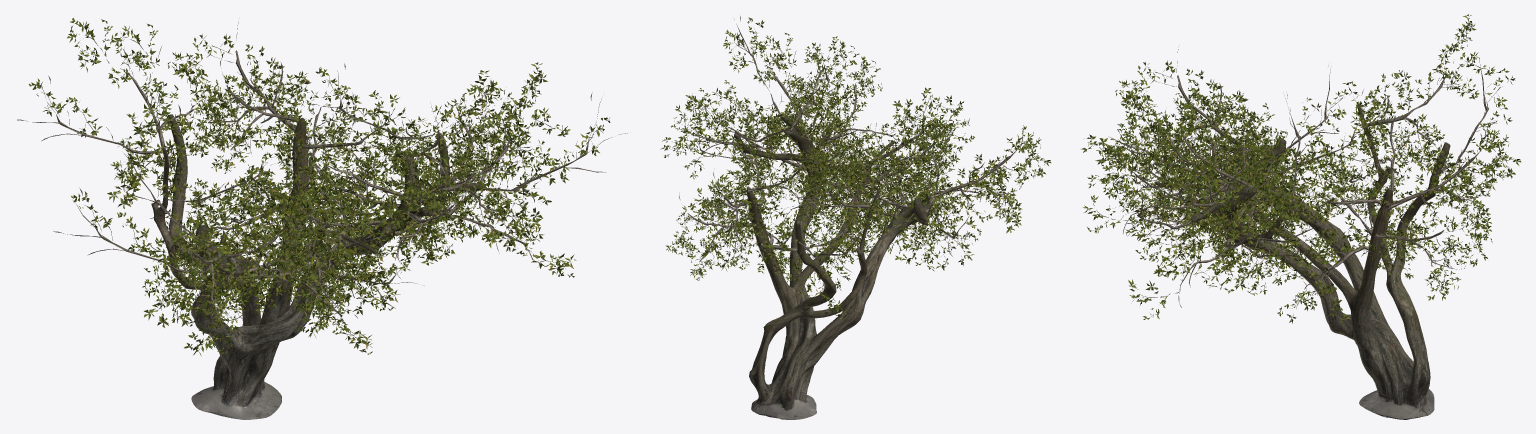
The model's file is island-tree.glb.
3 renders of one model, left to right at view 1: azimuth 30°, elevation 25°; view 2: azimuth 150°, elevation 25°; view 3: azimuth 270°, elevation 25°, orthographic. The views are drawn at different scales.
Parts seen in each view (by area): view 1: island_tree_02_LOD0.002, island_tree_02_LOD0, island_tree_02_LOD0.001; view 2: island_tree_02_LOD0.002, island_tree_02_LOD0.001, island_tree_02_LOD0; view 3: island_tree_02_LOD0.002, island_tree_02_LOD0.001, island_tree_02_LOD0.
Boxes of the visible parts, x1,y1,x2,y2 form: island_tree_02_LOD0.002: (29, 18, 610, 356); island_tree_02_LOD0: (17, 22, 627, 349); island_tree_02_LOD0.001: (151, 114, 484, 419); island_tree_02_LOD0.002: (660, 17, 1051, 318); island_tree_02_LOD0.001: (734, 114, 934, 419); island_tree_02_LOD0: (668, 16, 1044, 305); island_tree_02_LOD0.002: (1081, 14, 1521, 324); island_tree_02_LOD0.001: (1155, 103, 1450, 419); island_tree_02_LOD0: (1088, 30, 1509, 318).
Size of the model in its own units: 4.2 by 3.4 by 4.07.
3 materials, 3 textured.
